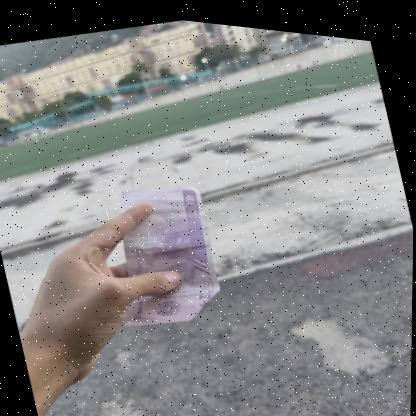one_hundred-back-vef: (93, 165, 232, 336)
